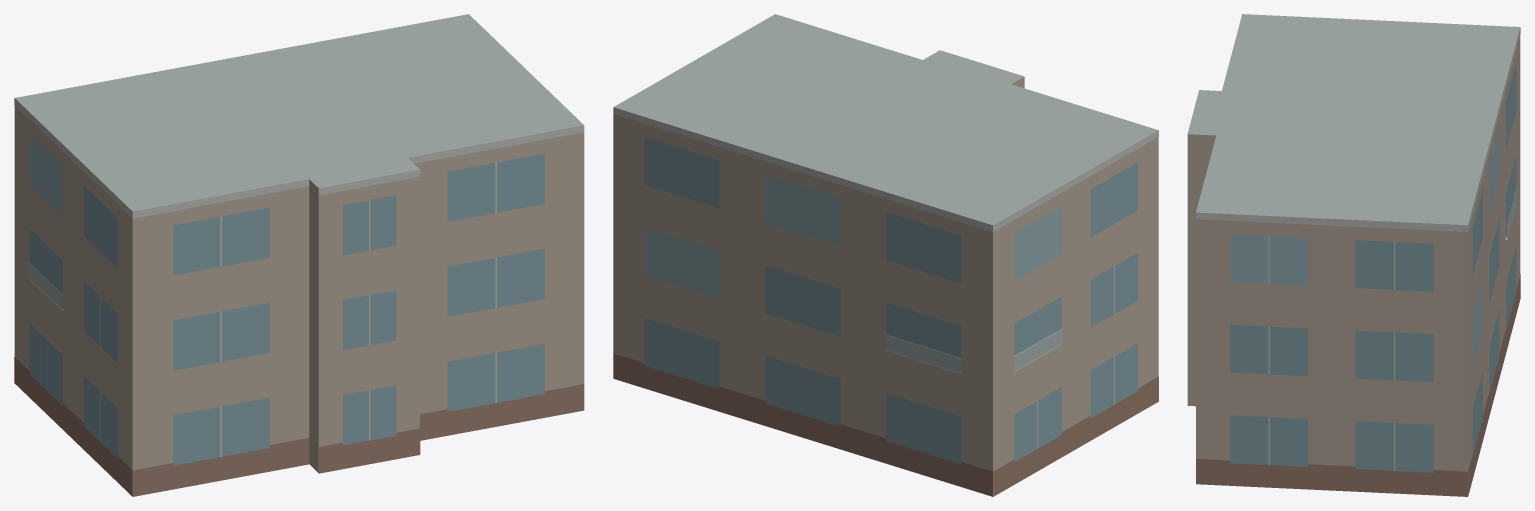
Rendered from survey-upis-32808844.glb.
3 views of the same model, side by side, from view 1: azimuth 30°, elevation 25°; view 2: azimuth 150°, elevation 25°; view 3: azimuth 270°, elevation 25° (orthographic). The views are drawn at different scales.
Parts seen in each view (by area): view 1: survey-upis-32808844.tmp; view 2: survey-upis-32808844.tmp; view 3: survey-upis-32808844.tmp.
Part boxes in pixels (left/top/right/bottom): survey-upis-32808844.tmp: left=14, top=14, right=584, bottom=496; survey-upis-32808844.tmp: left=613, top=14, right=1158, bottom=496; survey-upis-32808844.tmp: left=1187, top=14, right=1520, bottom=496.
Size of the model in its own units: 16.36 by 9.8 by 10.9.
